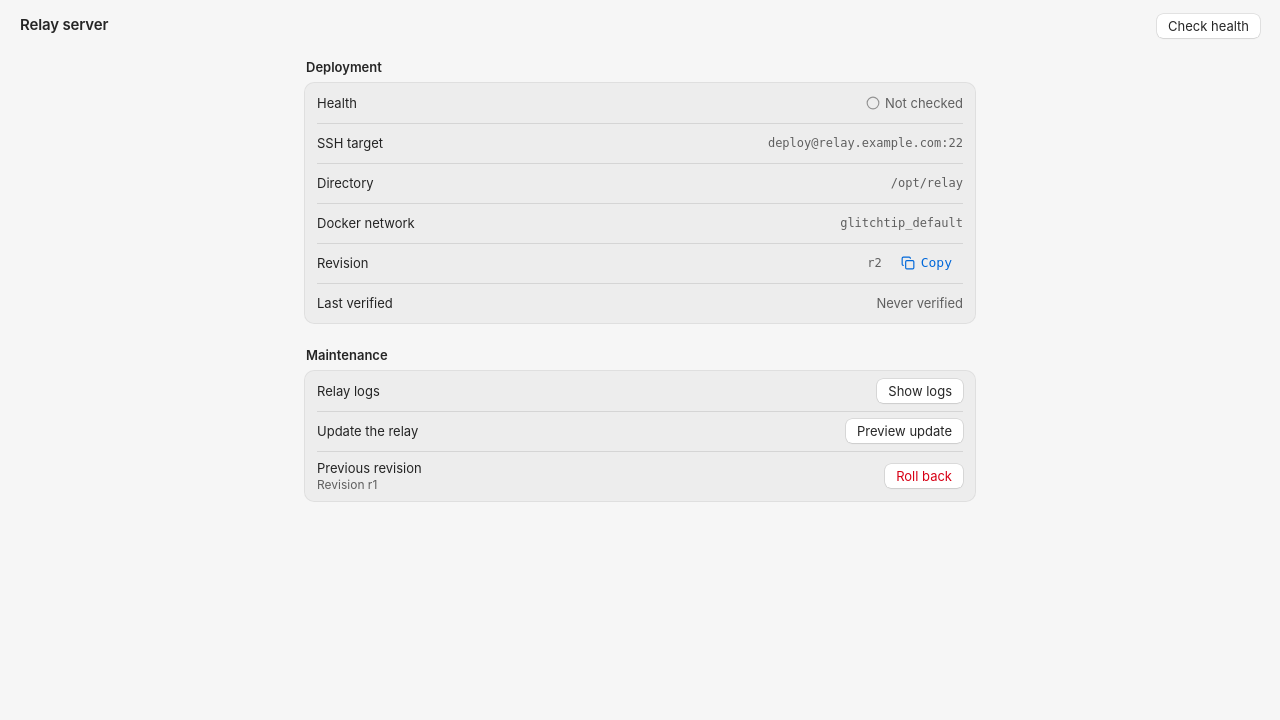
Test: relay server › closes the rollback sheet on failure and says why on the page
What coordinates should you click on to do the following:
click the button "Roll back"
I would click on:
 (924, 476)
Its box is [885,464,963,488].
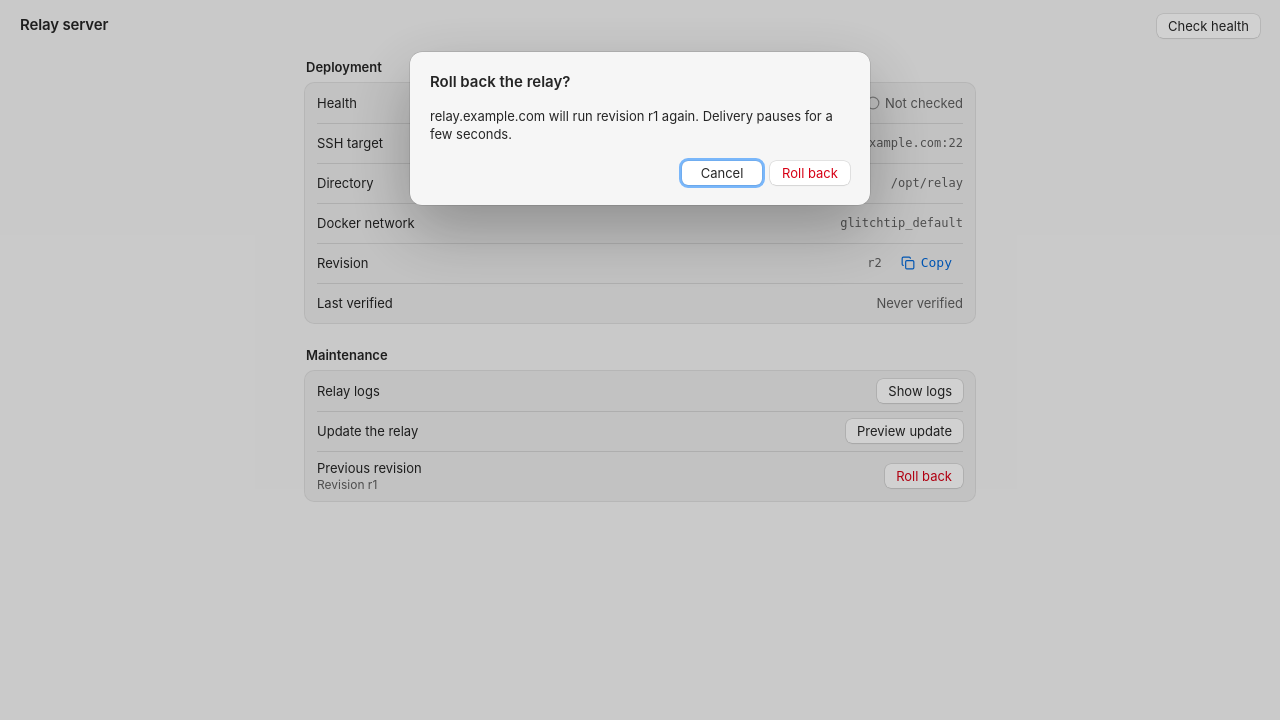
What coordinates should you click on to do the following:
click the button "Roll back"
I would click on:
 (810, 173)
Its box is [770,161,850,185].
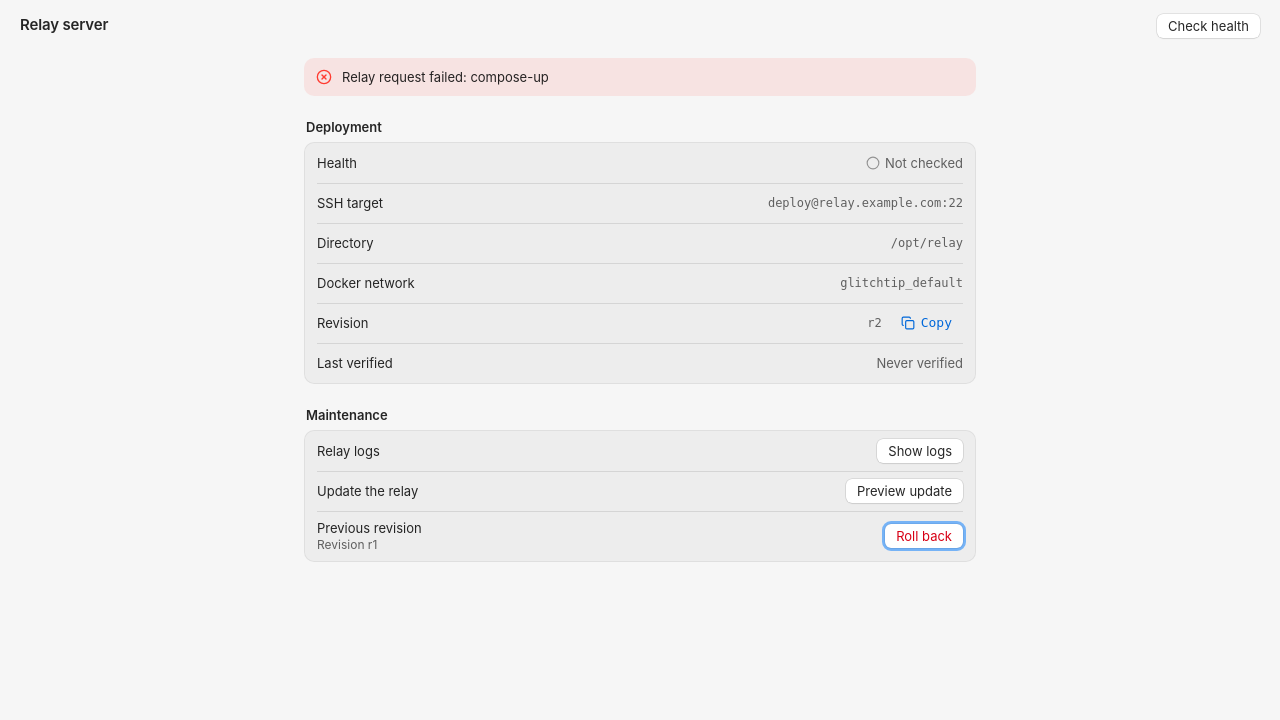
Result: the dialog is gone
